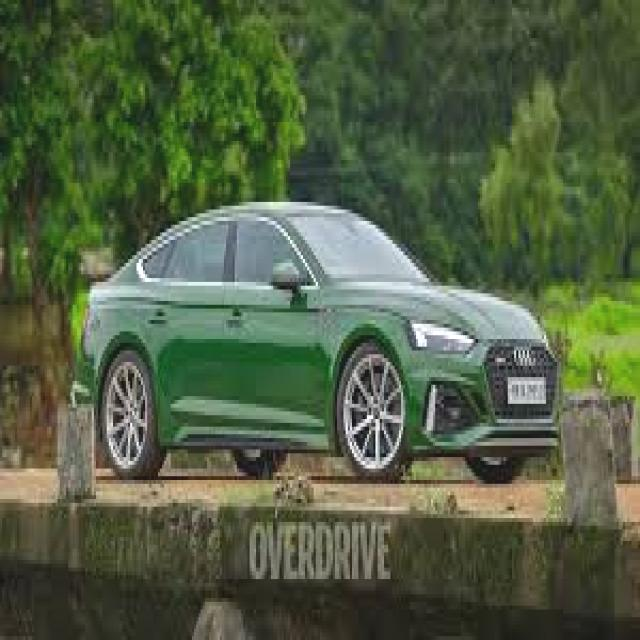SUV: (79, 198, 572, 490)
